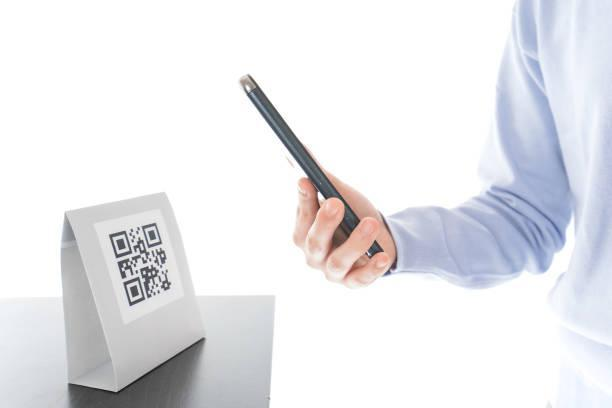Finder pattern: (106, 229, 133, 259), (122, 275, 146, 308), (139, 220, 163, 250)
